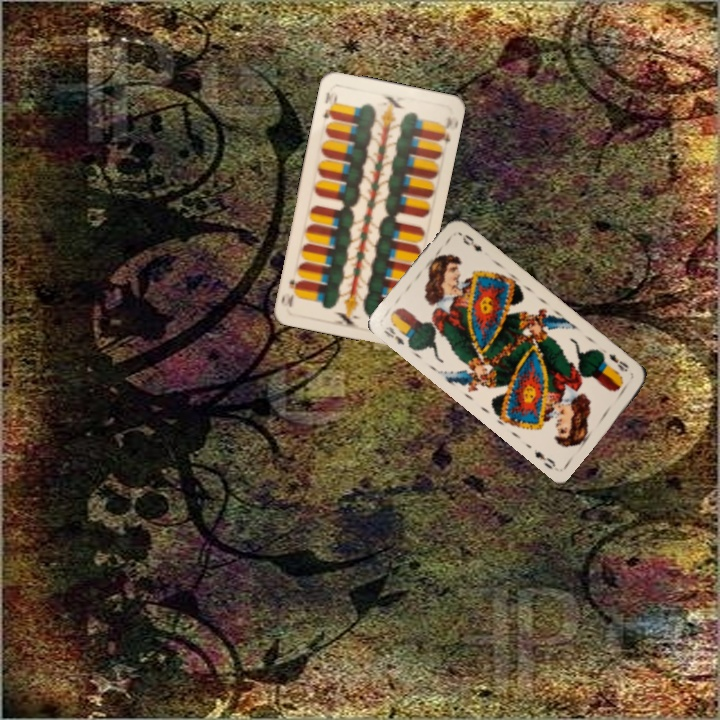E10: (318, 88, 340, 122)
EO: (379, 322, 407, 348), (605, 350, 631, 375)
